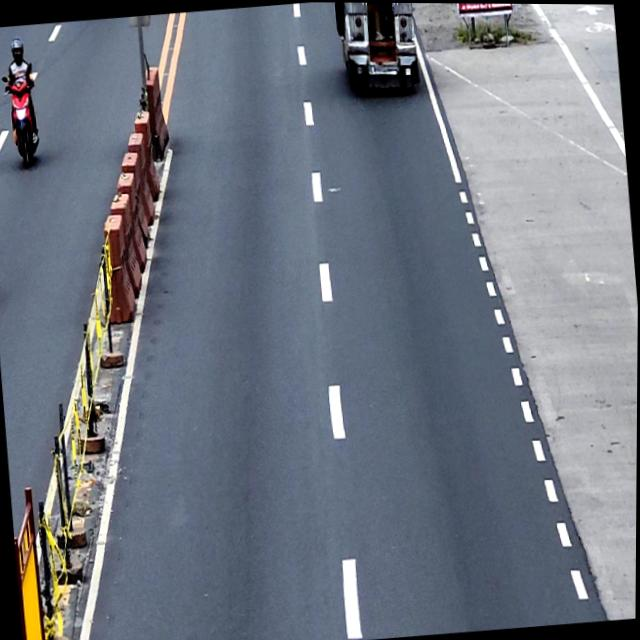Jeep: (332, 2, 421, 94)
Motorcycle: (0, 70, 45, 169)
